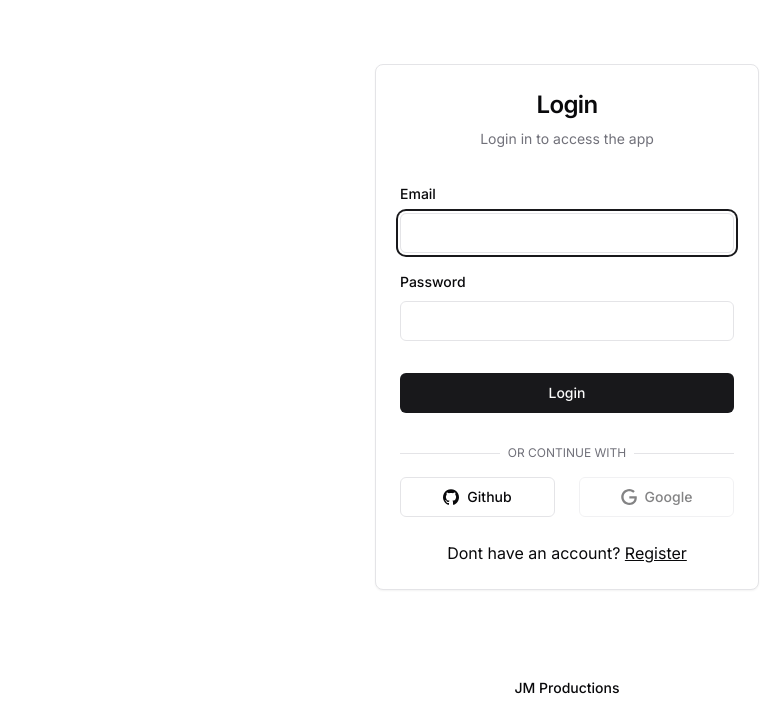
Test case: Login form tests › Test with empty credentials
Click the button with test id "login-submit" at coordinates (567, 393), box [400,373,734,413]
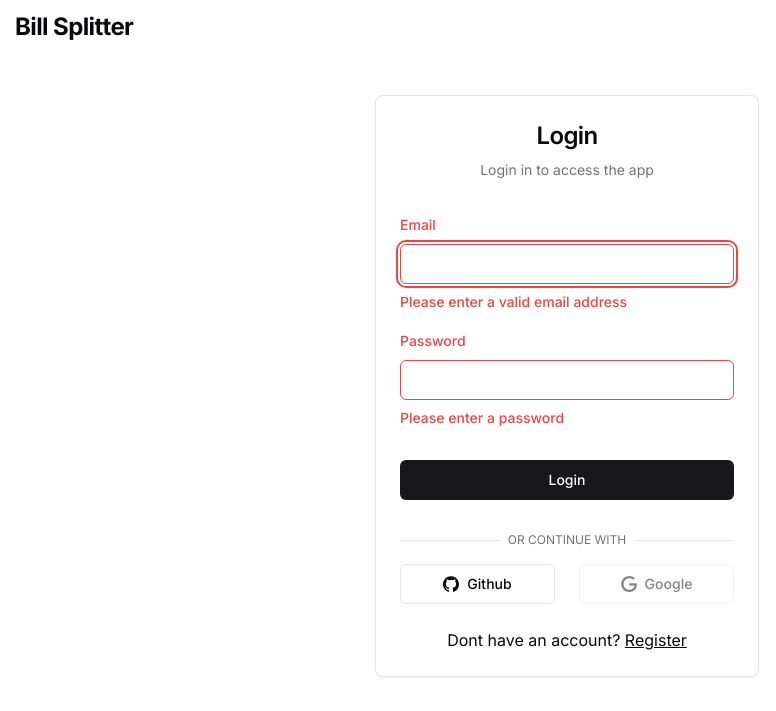
Now the form with test id "login-form" shows "Please enter a valid email address", box [400,212,734,516]
Now the form with test id "login-form" shows "Please enter a password", box [400,212,734,516]
